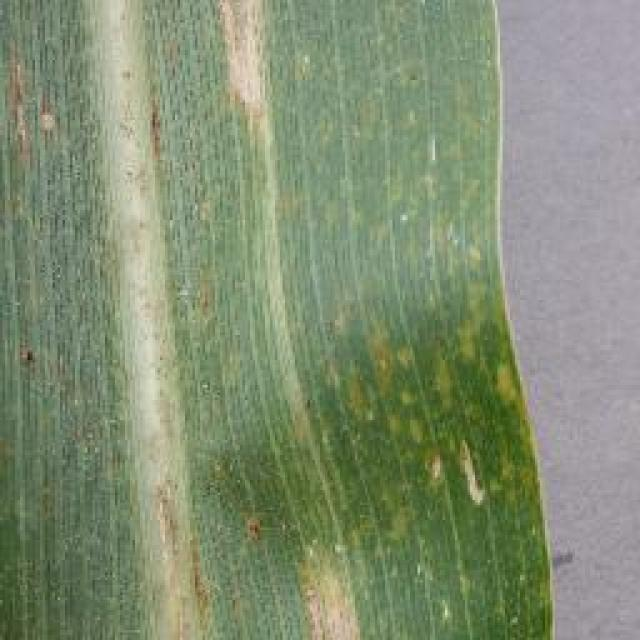Corn___Northern_Leaf_Blight: (5, 12, 583, 640)
